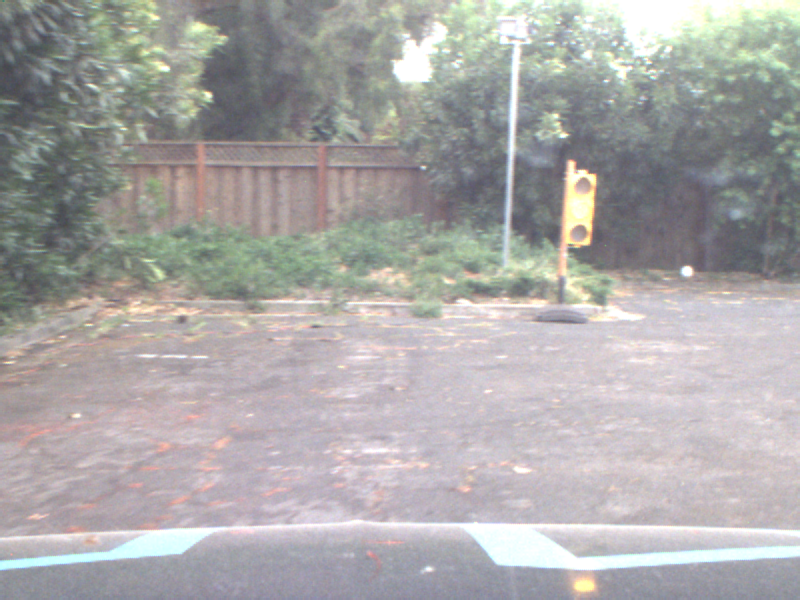Yellow: (567, 169, 595, 247)
